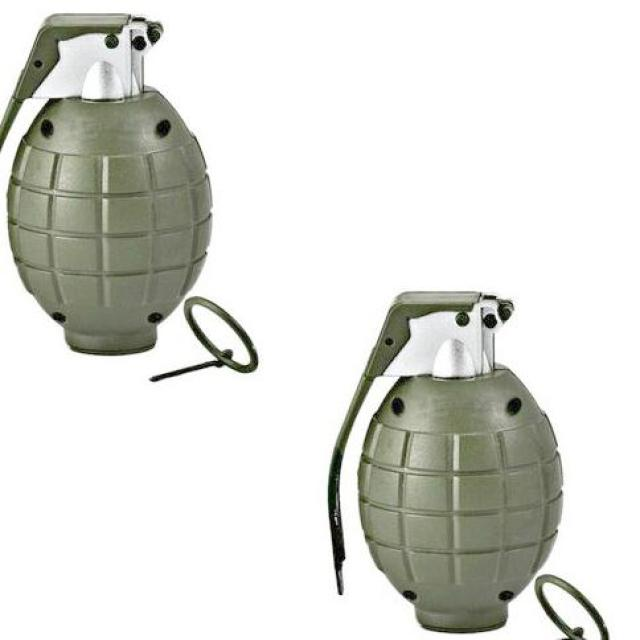grenade: (325, 292, 565, 636), (1, 15, 215, 360)
